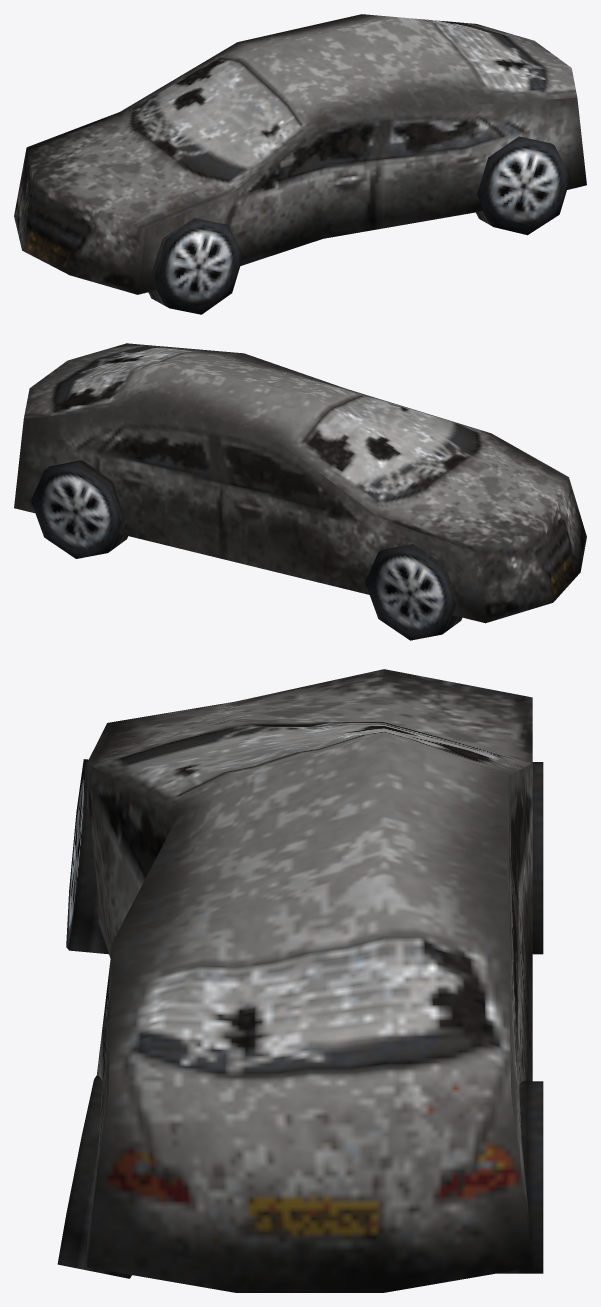
Rendered from car6.fbx.
3 renders of one model, top to bottom at view 1: azimuth 30°, elevation 25°; view 2: azimuth 150°, elevation 25°; view 3: azimuth 270°, elevation 25°, orthographic. The views are drawn at different scales.
Parts seen in each view (by area): view 1: car6; view 2: car6; view 3: car6.
Boxes of the visible parts, x1,y1,x2,y2 form: car6: [14, 14, 586, 314]; car6: [14, 343, 586, 640]; car6: [57, 669, 543, 1292].
Size of the model in its own units: 467 by 190 by 154.
1 material, 1 textured.
